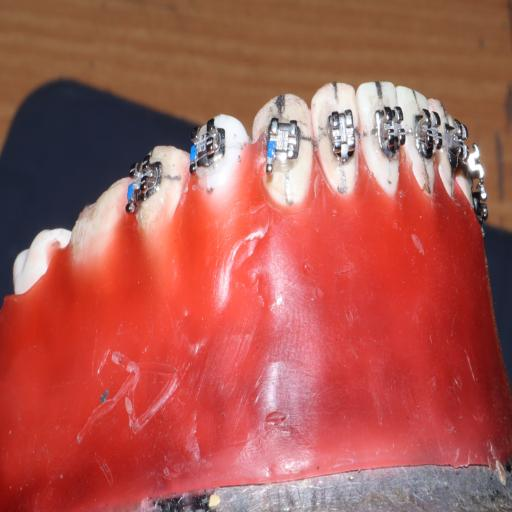correct_brace: (322, 106, 357, 166)
incorrect_brace: (310, 75, 360, 205), (263, 112, 301, 180)
